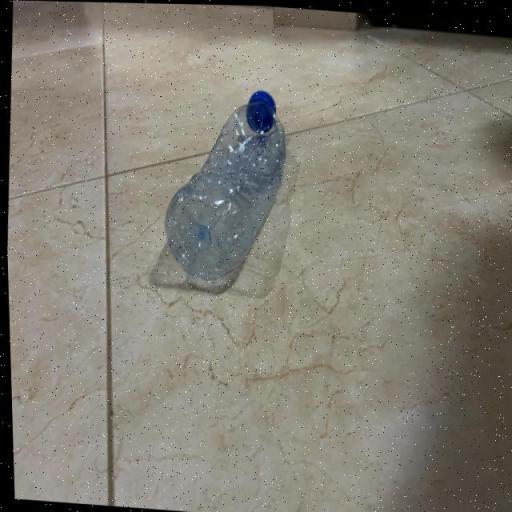plastic: (155, 76, 303, 302)
